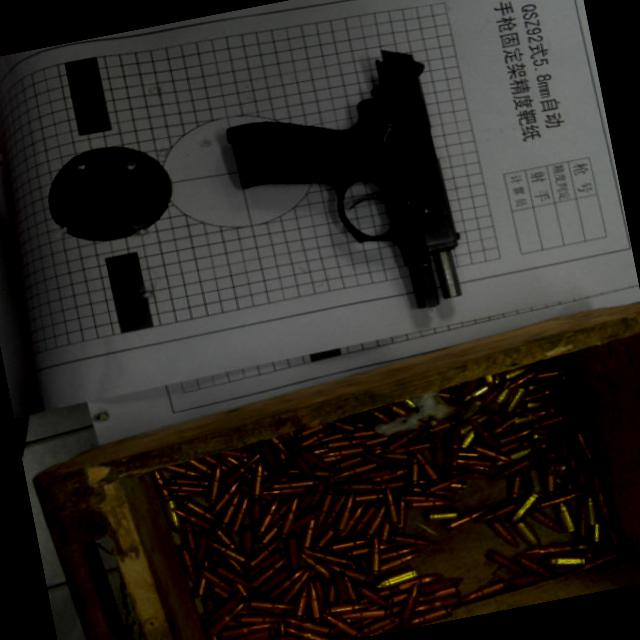handgun: (215, 39, 476, 339)
